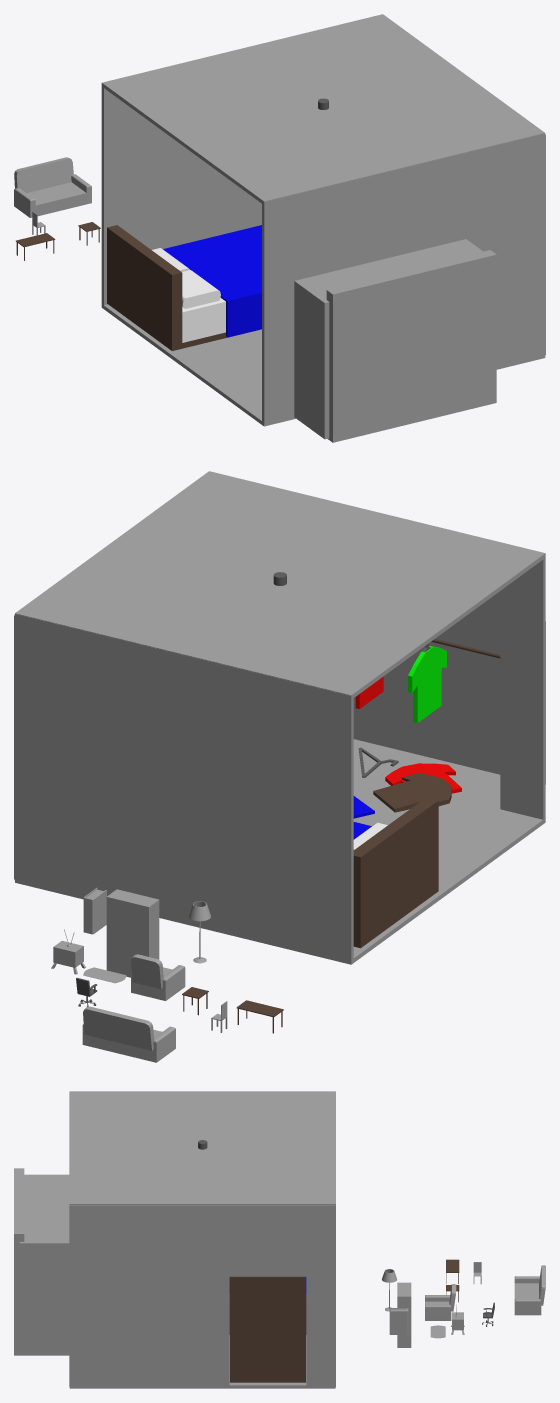
The model's file is Furniture_FBX_Export.fbx.
3 renders of one model, top to bottom at view 1: azimuth 30°, elevation 25°; view 2: azimuth 150°, elevation 25°; view 3: azimuth 270°, elevation 25°, orthographic. The views are drawn at different scales.
Parts seen in each view (by area): view 1: pCube26, pCube24, pCube23, pCube25, pCube28, pCube18; view 2: pCube25, pCube26, pCube23, pCube24, pCube28, pCube3, pCube18, pCube60, pCube62, pCube13, pCube61, pCube4 (+1 smaller); view 3: pCube27, pCube26, pCube24, pCube54, pCube23, pCube18, pCube13, pCube3, pCube4.
Part boxes in pixels (<box>): pCube26: <box>101,14,544,203</box>; pCube24: <box>262,133,545,439</box>; pCube23: <box>101,250,545,442</box>; pCube25: <box>101,83,261,305</box>; pCube28: <box>107,225,261,350</box>; pCube18: <box>14,157,91,217</box>; pCube25: <box>14,614,353,962</box>; pCube26: <box>15,471,545,698</box>; pCube23: <box>15,637,545,964</box>; pCube24: <box>437,555,545,819</box>; pCube28: <box>353,797,438,948</box>; pCube3: <box>106,889,159,977</box>; pCube18: <box>82,1006,175,1062</box>; pCube60: <box>408,646,446,723</box>; pCube62: <box>373,773,451,812</box>; pCube13: <box>131,954,185,1000</box>; pCube61: <box>385,763,461,793</box>; pCube4: <box>83,888,106,934</box>; pCube27: <box>69,1205,335,1386</box>; pCube26: <box>69,1091,335,1205</box>; pCube24: <box>19,1092,72,1386</box>; pCube54: <box>230,1276,305,1382</box>; pCube23: <box>14,1168,335,1388</box>; pCube18: <box>514,1265,545,1315</box>; pCube13: <box>425,1284,456,1320</box>; pCube3: <box>397,1282,411,1347</box>; pCube4: <box>389,1308,408,1334</box>.
Size of the model in its own units: 49.64 by 39.34 by 95.31.
